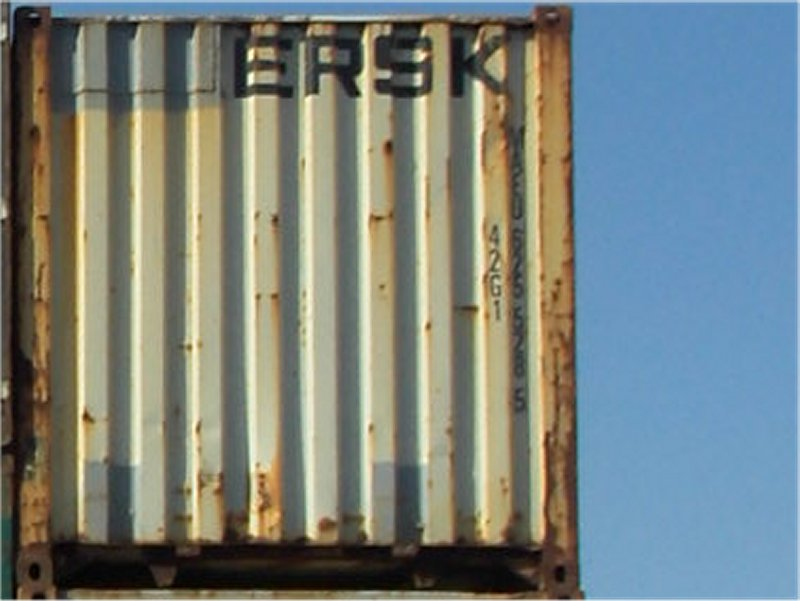container_no_door: (16, 1, 583, 596)
